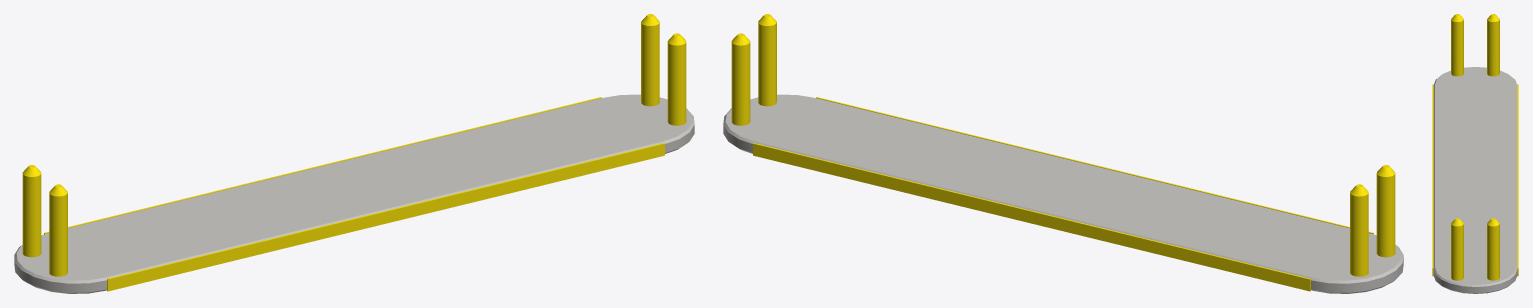
Rendered from pump-island.glb.
3 renders of one model, left to right at view 1: azimuth 30°, elevation 25°; view 2: azimuth 150°, elevation 25°; view 3: azimuth 270°, elevation 25°, orthographic. The views are drawn at different scales.
Visible parts, largest first — view 1: Island_Curb, Island_Yellow; view 2: Island_Curb, Island_Yellow; view 3: Island_Curb, Island_Yellow.
Boxes of the visible parts, left/top/right/bottom form: Island_Curb: left=14, top=94, right=694, bottom=293; Island_Yellow: left=22, top=14, right=686, bottom=291; Island_Curb: left=723, top=94, right=1403, bottom=293; Island_Yellow: left=731, top=14, right=1395, bottom=291; Island_Curb: left=1433, top=67, right=1517, bottom=293; Island_Yellow: left=1432, top=14, right=1518, bottom=280.
Bounding box in the file's own units: 26 × 3.75 × 4.32.
